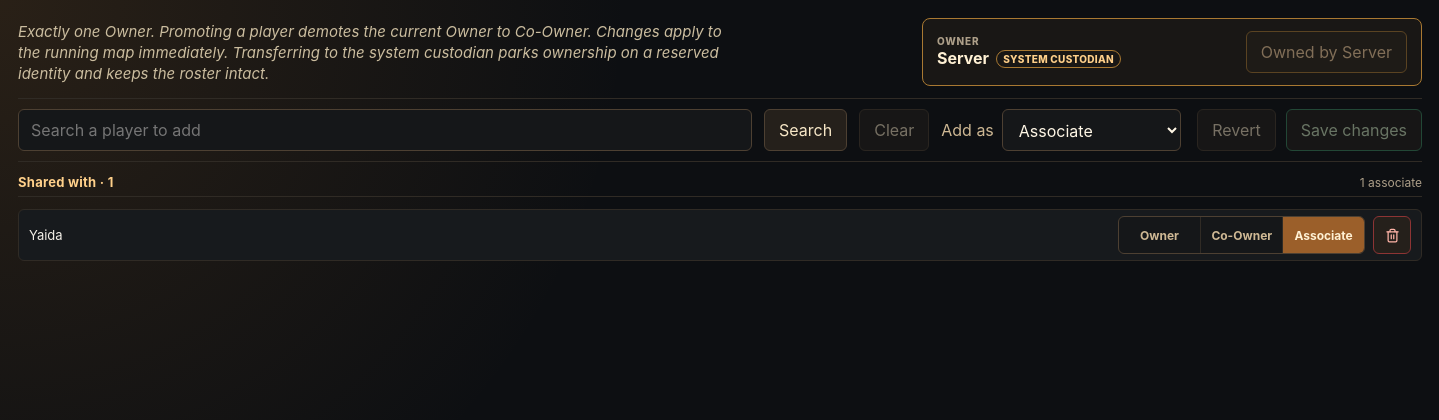
Test case: BasePermissionsTab system custodian › removes the custodian from the roster, rather than demoting it, when another player is promoted to Owner
Click the radio button with aria-label "Owner for Yaida" at (1160, 236), box [1140,228,1179,243]
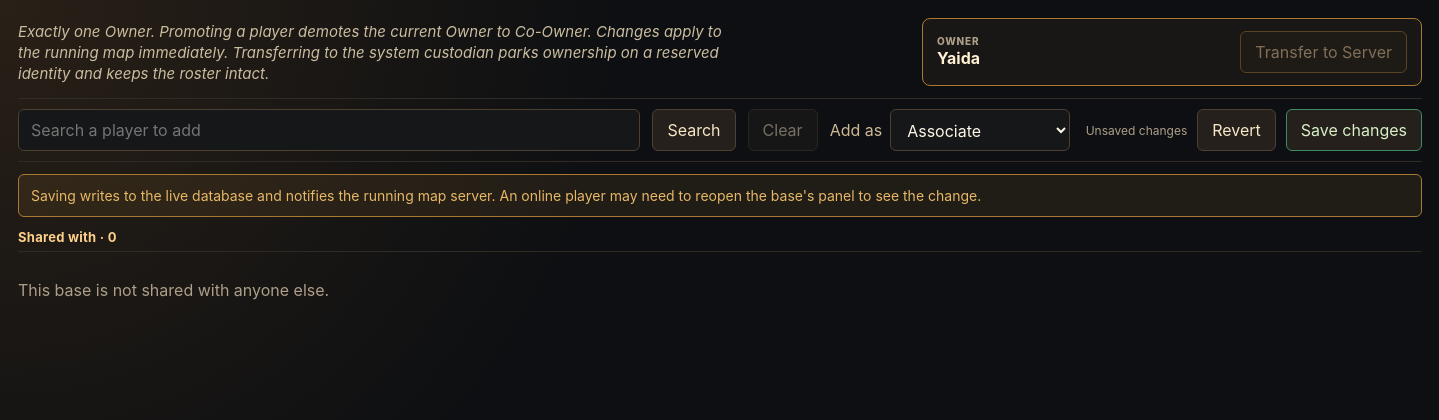
Now the text with class "bases-permissions-owner-name" reads "Yaida", box [937,48,980,68]
Now the text "Shared with · 0" is shown, box [18,229,117,245]
